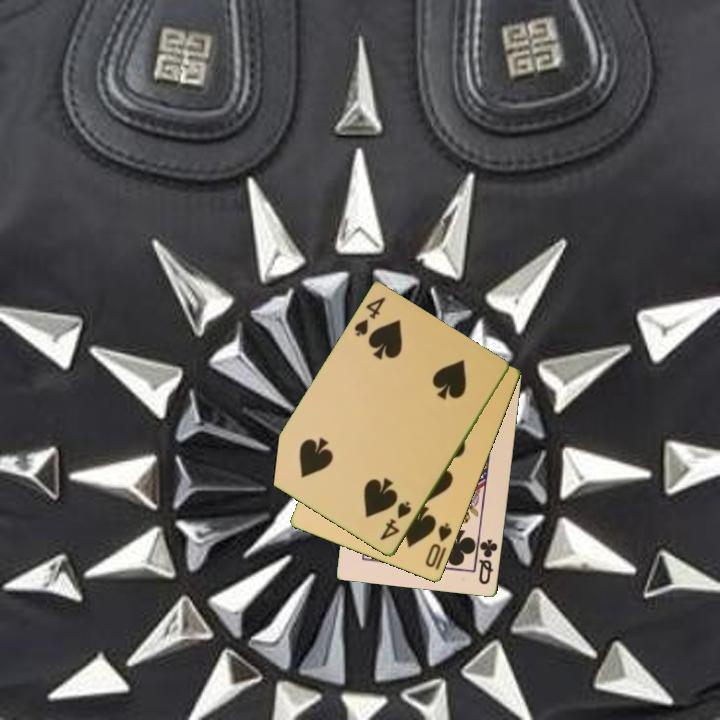10s: (422, 520, 455, 571)
4s: (376, 498, 414, 544), (351, 294, 388, 340)
Qc: (473, 533, 501, 588)
